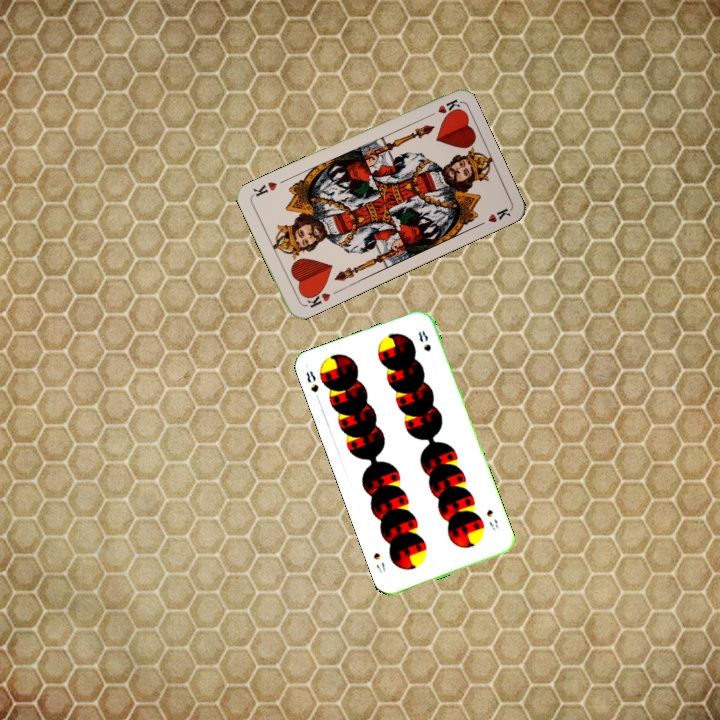HK: (422, 95, 462, 120), (301, 284, 333, 310)
S8: (302, 367, 323, 405), (482, 505, 501, 533)
